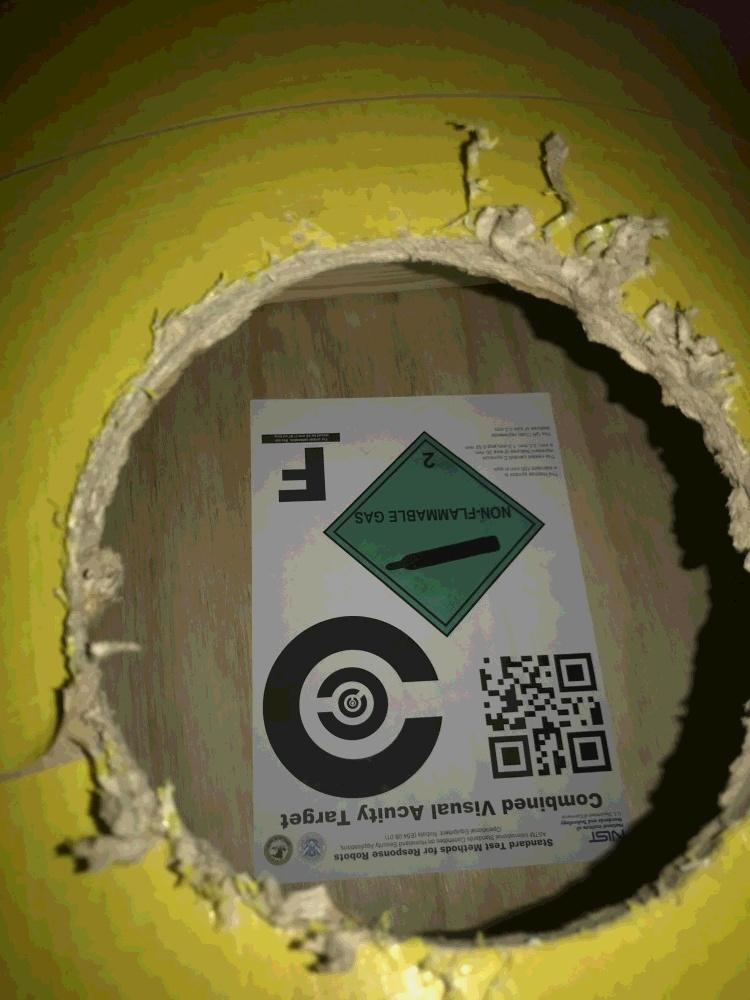non-flammable-gas: (323, 430, 545, 637)
